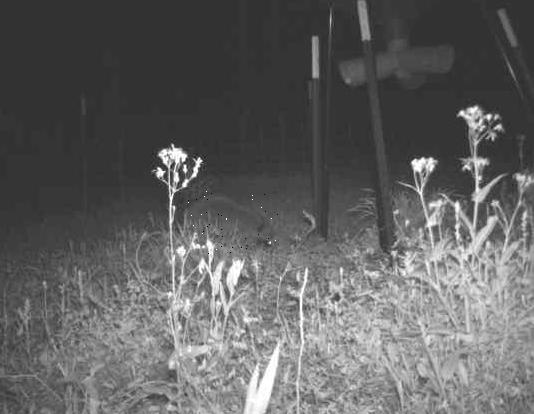Raccoon: (183, 191, 278, 254)
